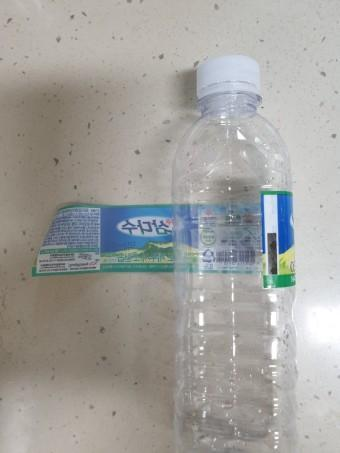bottle: (173, 55, 303, 452)
